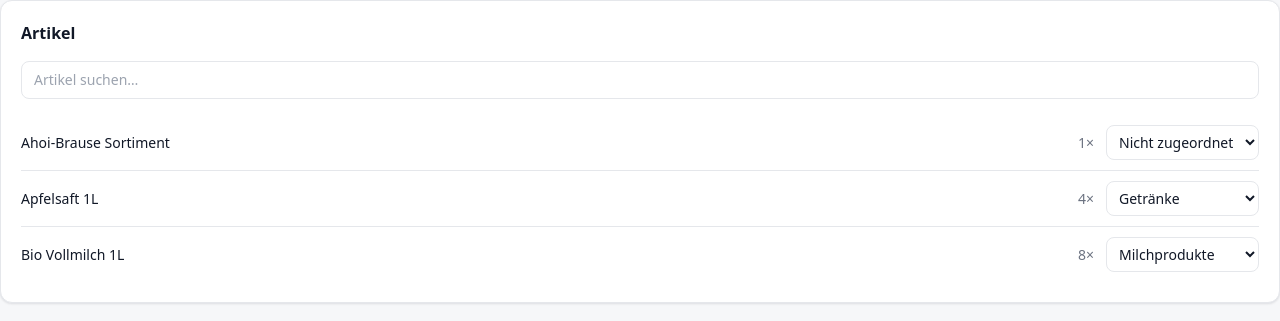
Scenario: Articles page › should filter the list by the search term
Expected: the list with test id "product-list" is shown, [21,115,1259,282]
In the search field labelled "Artikel suchen": (640, 80) [21,61,1259,99], type "milch"
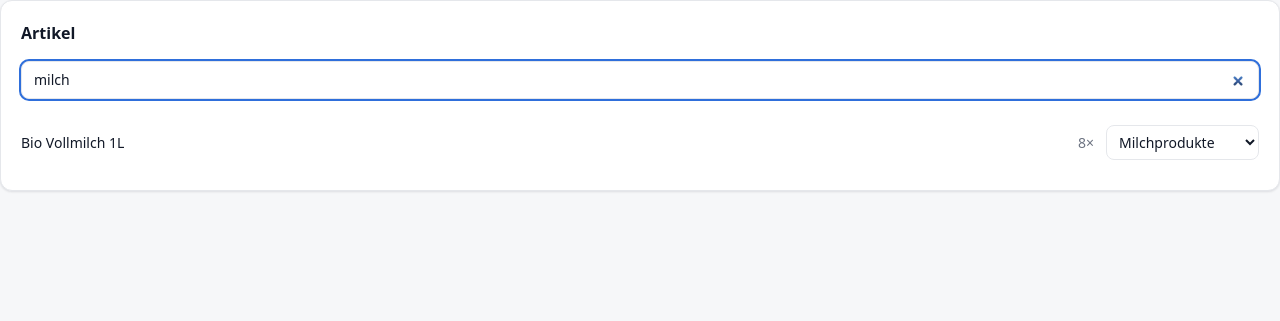
Expected: the text "Bio Vollmilch 1L" is shown, [21,132,124,152]
Now the number of list items is 1, box [21,115,1259,170]
